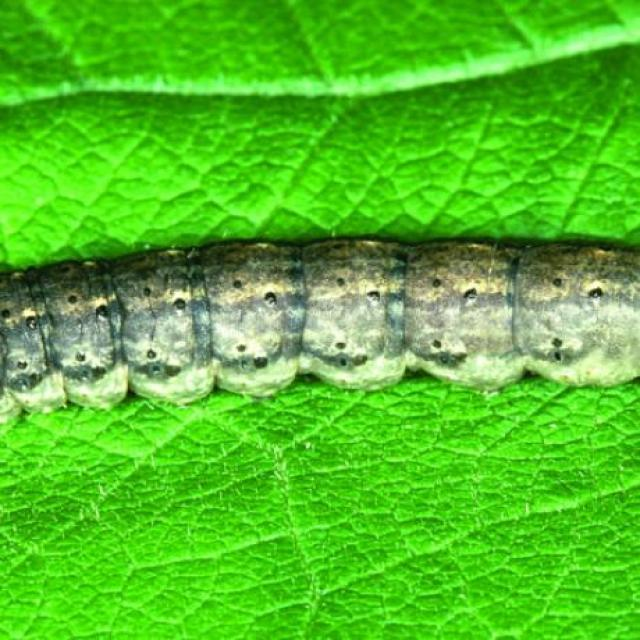Cutworm: (1, 238, 640, 403)
